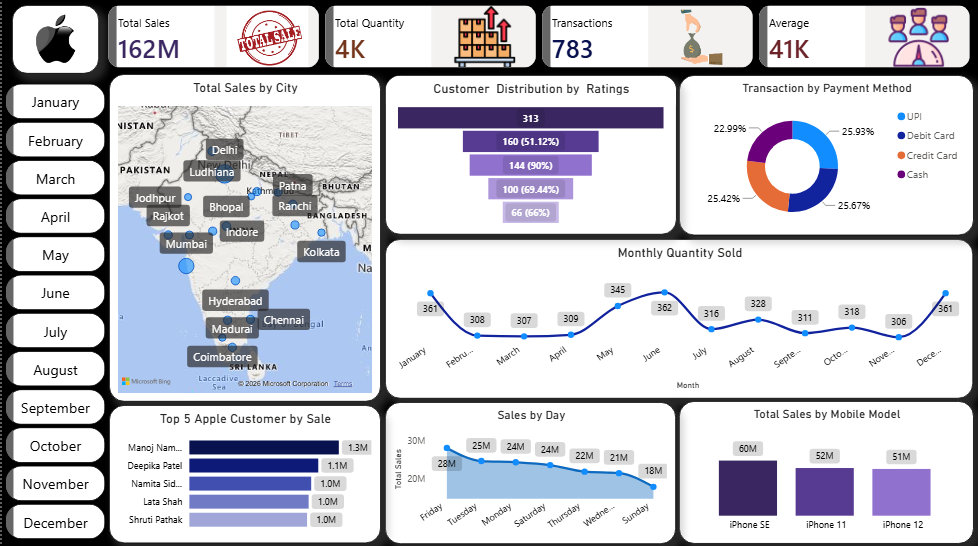

The dashboard page shown, as its layout file describes it:
{"tool":"powerbi","page":{"name":"Page 3","canvas":[1280,720],"ordinal":0},"visuals":[{"type":"cardVisual","fields":{"Data":["Sales_Data.Total_Sales","Sales_Data.TOTAL_Quantity","Sales_Data.TRANSACTION","Sales_Data.AVERAGE"]},"box":[126.6,0,1153.4,106.6],"z":0,"group":"g1"},{"type":"shape","box":[12.9,11.4,114.3,90],"z":0},{"type":"image","box":[12.9,10,114.3,91.4],"z":1000},{"type":"advancedSlicerVisual","fields":{"Values":["Sales_Data.Date.Variation.Date Hierarchy.Month"]},"box":[0,110,140,608.6],"z":2000},{"type":"group","id":"g1","title":"Group 2","box":[126.6,0,1153.4,106],"z":3000},{"type":"map","fields":{"Category":["Sales_Data.City"],"Size":["Sales_Data.Total_Sales"]},"box":[139.7,102.2,355.7,429.1],"z":4000},{"type":"lineChart","title":"Monthly Quantity  Sold","fields":{"Y":["Sales_Data.TOTAL_Quantity"],"Category":["Sales_Data.Date.Variation.Date Hierarchy.Month","Sales_Data.Date.Variation.Date Hierarchy.Day"]},"box":[501.1,318.2,770.4,208.8],"z":5000},{"type":"columnChart","fields":{"Category":["Sales_Data.Mobile Model"],"Y":["Sales_Data.Total_Sales"]},"box":[885.7,530,385.7,187.1],"z":6000},{"type":"donutChart","fields":{"Category":["Sales_Data.Payment Method"],"Y":["Sales_Data.TRANSACTION"]},"box":[885.6,103.7,385.9,210.2],"z":7000},{"type":"funnel","title":"Customer  Distribution by  Ratings","fields":{"Category":["Sales_Data.Customer Ratings"],"Y":["CountNonNull(Sales_Data.Customer Ratings)"]},"box":[501.1,103.7,381.6,208.8],"z":8000},{"type":"areaChart","title":"Sales by Day ","fields":{"Category":["Sales_Data.Day Name.1"],"Y":["Sales_Data.Total_Sales"]},"box":[501.4,531.4,381.4,185.7],"z":9000},{"type":"clusteredBarChart","title":"Top 5 Apple  Customer by Sale","fields":{"Category":["Sales_Data.Customer Name"],"Y":["Sales_Data.Total_Sales"]},"box":[139.7,535.7,355.7,181.4],"z":10000}]}

Visuals, with their boxes in screenshot pixels (x1, y1, x2, y2), scaled from the page's 1280x720 canvas onto the 978x546 screenshot:
cardVisual - Sales_Data.Total_Sales x Sales_Data.TOTAL_Quantity: region(97, 0, 977, 81)
shape: region(10, 9, 97, 77)
image: region(10, 8, 97, 77)
advancedSlicerVisual - Sales_Data.Date.Variation.Date Hierarchy.Month: region(0, 83, 107, 545)
"Group 2" group: region(97, 0, 977, 80)
map - Sales_Data.City x Sales_Data.Total_Sales: region(107, 78, 379, 403)
"Monthly Quantity  Sold" lineChart: region(383, 241, 972, 400)
columnChart - Sales_Data.Mobile Model x Sales_Data.Total_Sales: region(677, 402, 971, 544)
donutChart - Sales_Data.Payment Method x Sales_Data.TRANSACTION: region(677, 79, 972, 238)
"Customer  Distribution by  Ratings" funnel: region(383, 79, 674, 237)
"Sales by Day " areaChart: region(383, 403, 675, 544)
"Top 5 Apple  Customer by Sale" clusteredBarChart: region(107, 406, 379, 544)
